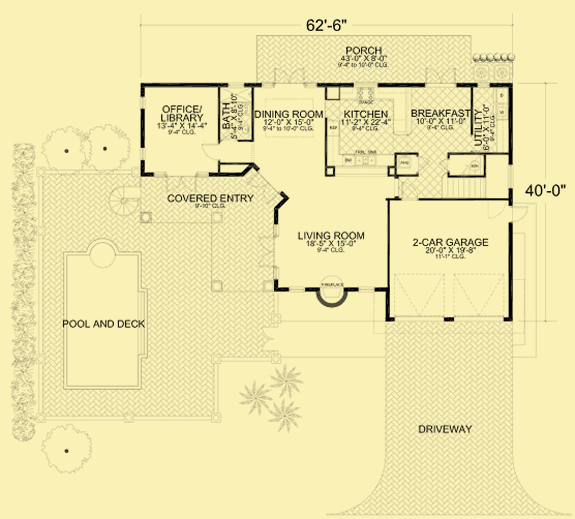laundry room has washer and dryer: (470, 84, 512, 153)
open area has stairs: (433, 154, 513, 201)
small bathroom has small and large sink: (217, 83, 252, 144)
this kitchen has a cooking range and sink: (323, 83, 421, 179)
